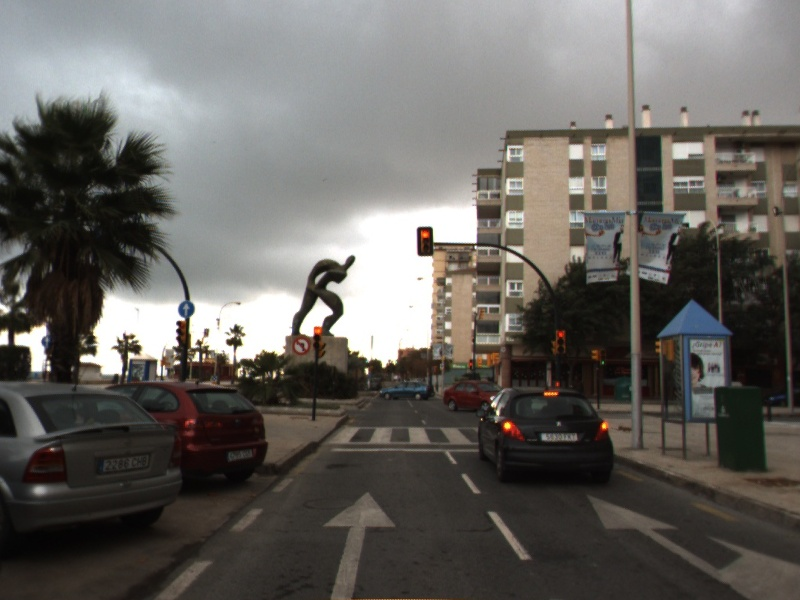STRAIGHT: (320, 490, 399, 600)
STRAIGHT_RIGHT: (584, 492, 800, 600)
